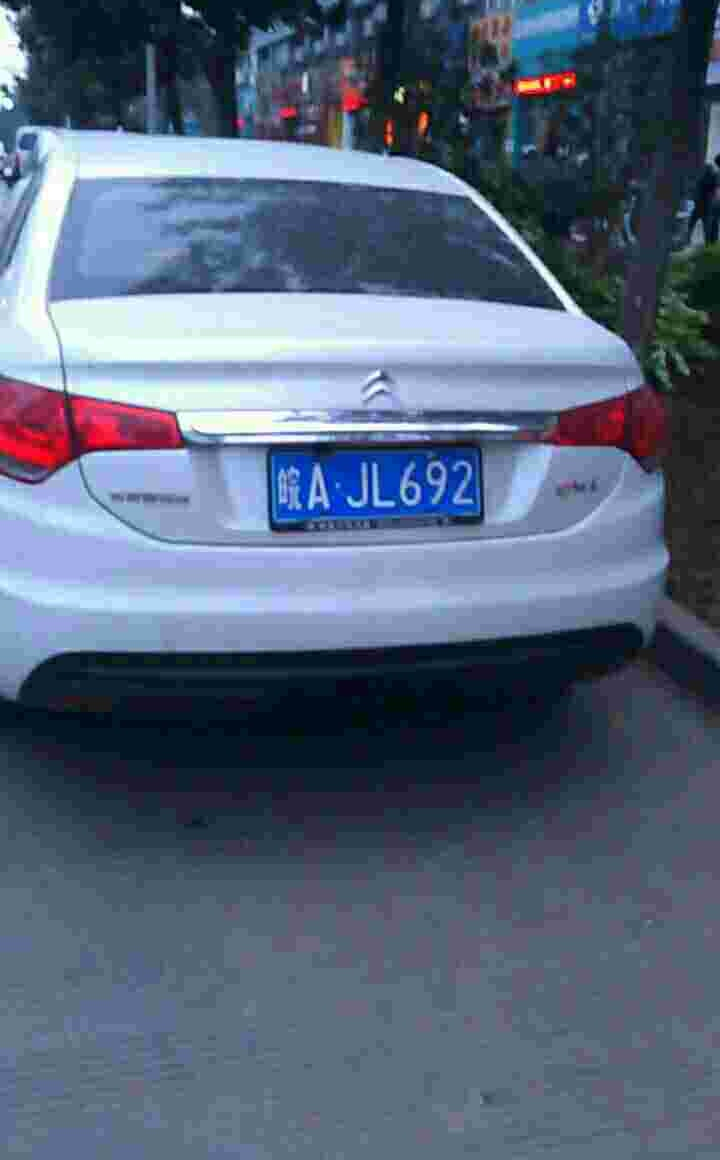license_plate: (261, 442, 484, 522)
